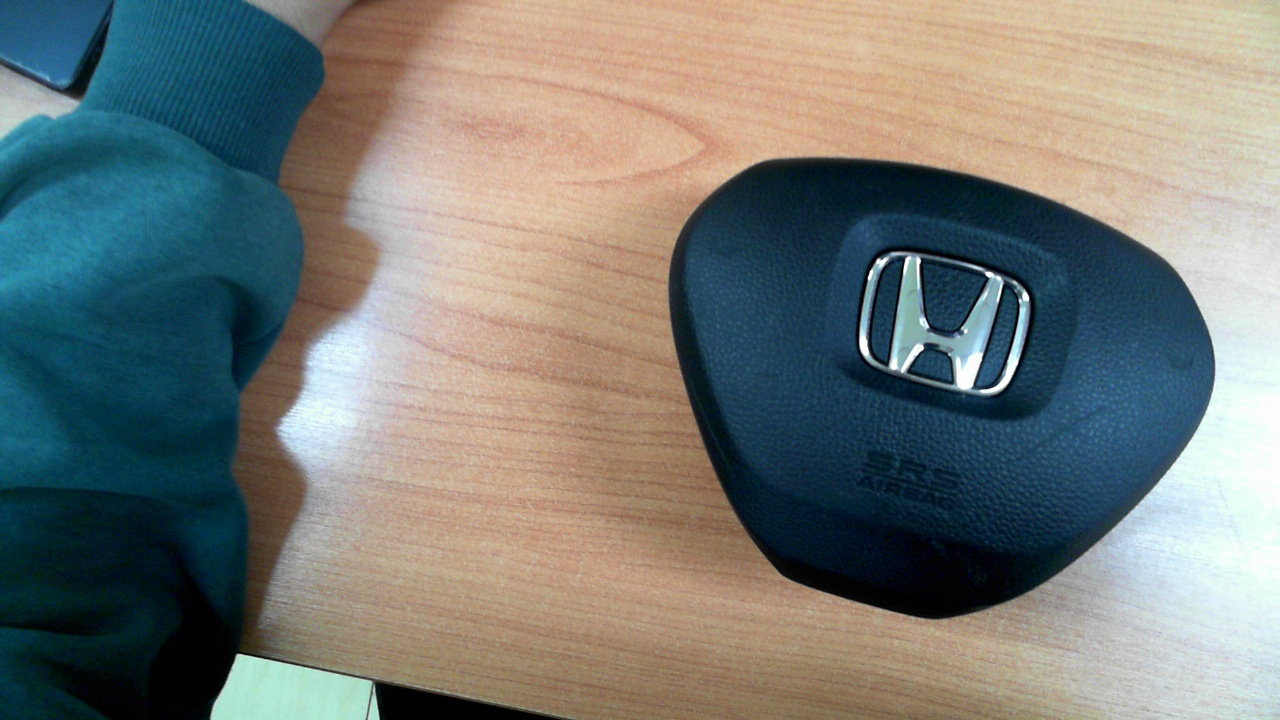Airbag: (668, 156, 1216, 620)
Honda: (858, 250, 1032, 397)
